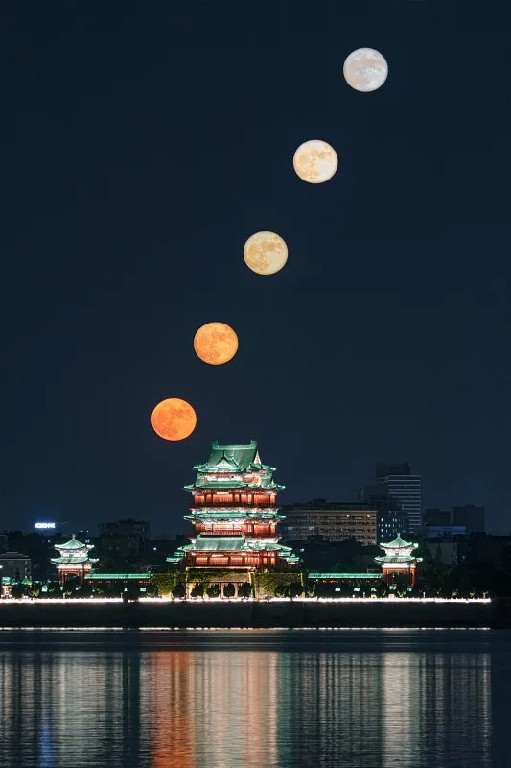Teng: (166, 438, 302, 571)
